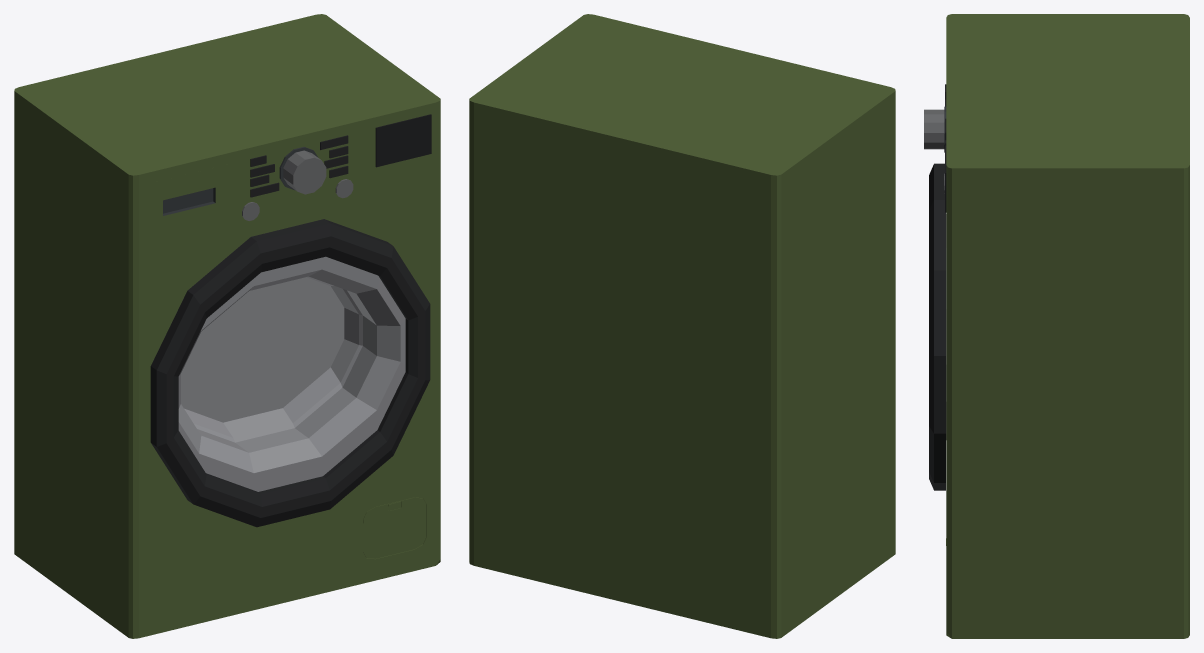
The model's file is washingmachine_01_B.gltf.
3 views of the same model, side by side, from view 1: azimuth 30°, elevation 25°; view 2: azimuth 150°, elevation 25°; view 3: azimuth 270°, elevation 25° (orthographic).
Visible parts, largest first — view 1: washingmachine_01_B, Doorforwashingmachine_01_B, shelfforwashingmachine_01_B, hatchforwashingmachine_01_B, Switchforwashingmachine_03_B; view 2: washingmachine_01_B; view 3: washingmachine_01_B, Doorforwashingmachine_01_B, Switchforwashingmachine_03_B.
Boxes of the visible parts, left/top/right/bottom form: washingmachine_01_B: left=14, top=14, right=440, bottom=638; Doorforwashingmachine_01_B: left=150, top=219, right=430, bottom=527; shelfforwashingmachine_01_B: left=146, top=163, right=232, bottom=240; hatchforwashingmachine_01_B: left=363, top=497, right=426, bottom=558; Switchforwashingmachine_03_B: left=283, top=150, right=326, bottom=194; washingmachine_01_B: left=469, top=14, right=895, bottom=638; washingmachine_01_B: left=944, top=14, right=1189, bottom=638; Doorforwashingmachine_01_B: left=929, top=163, right=946, bottom=490; Switchforwashingmachine_03_B: left=924, top=109, right=944, bottom=149.
Bounding box in the file's own units: 0.6 × 0.8522 × 0.4363.
1 material, 1 textured.
